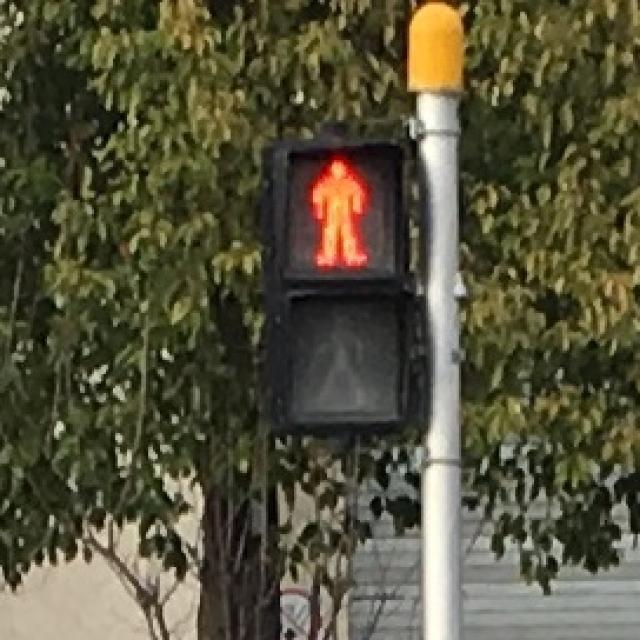red-crossing: (290, 146, 388, 273)
